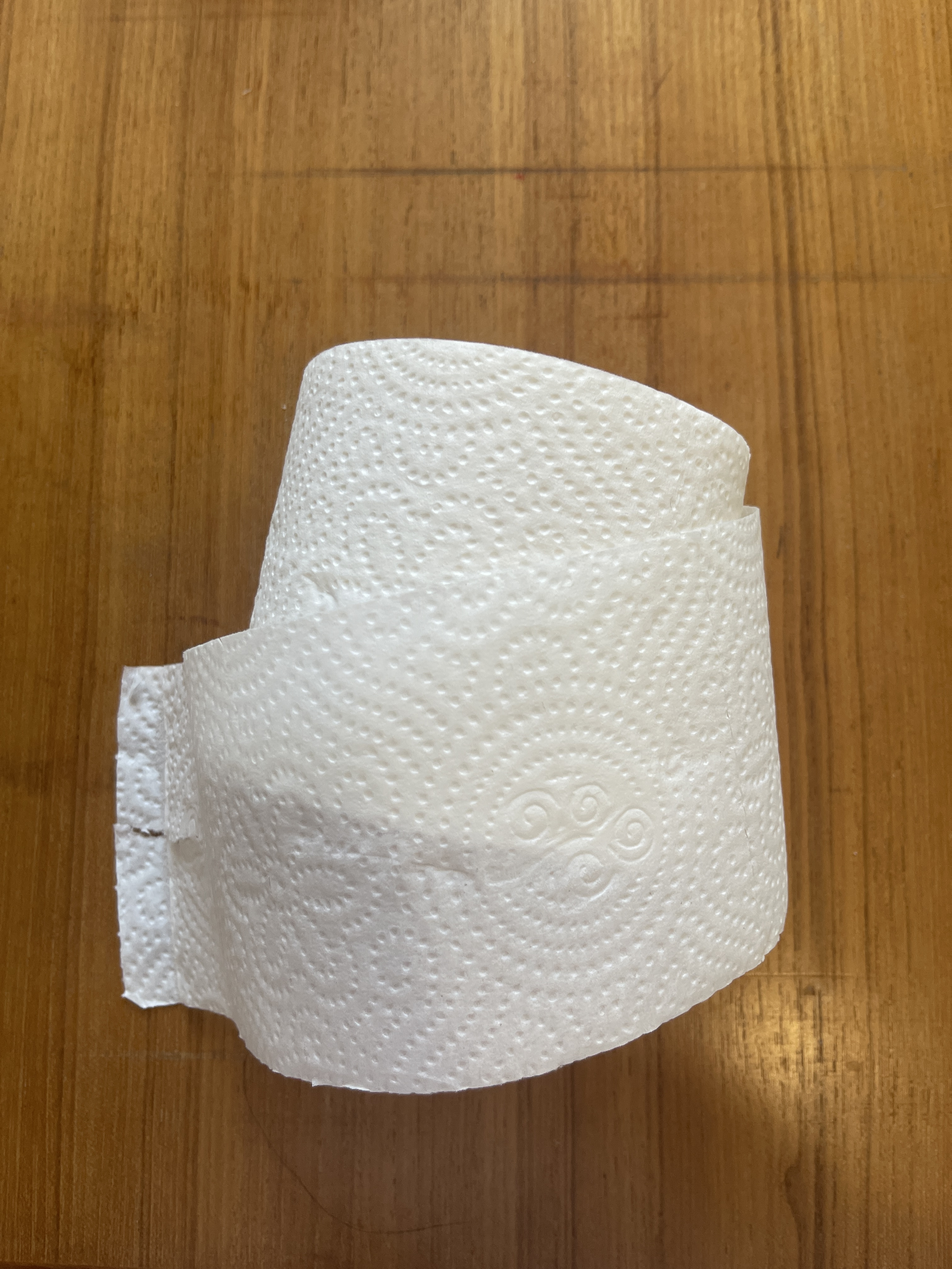paper: (113, 338, 792, 1100)
